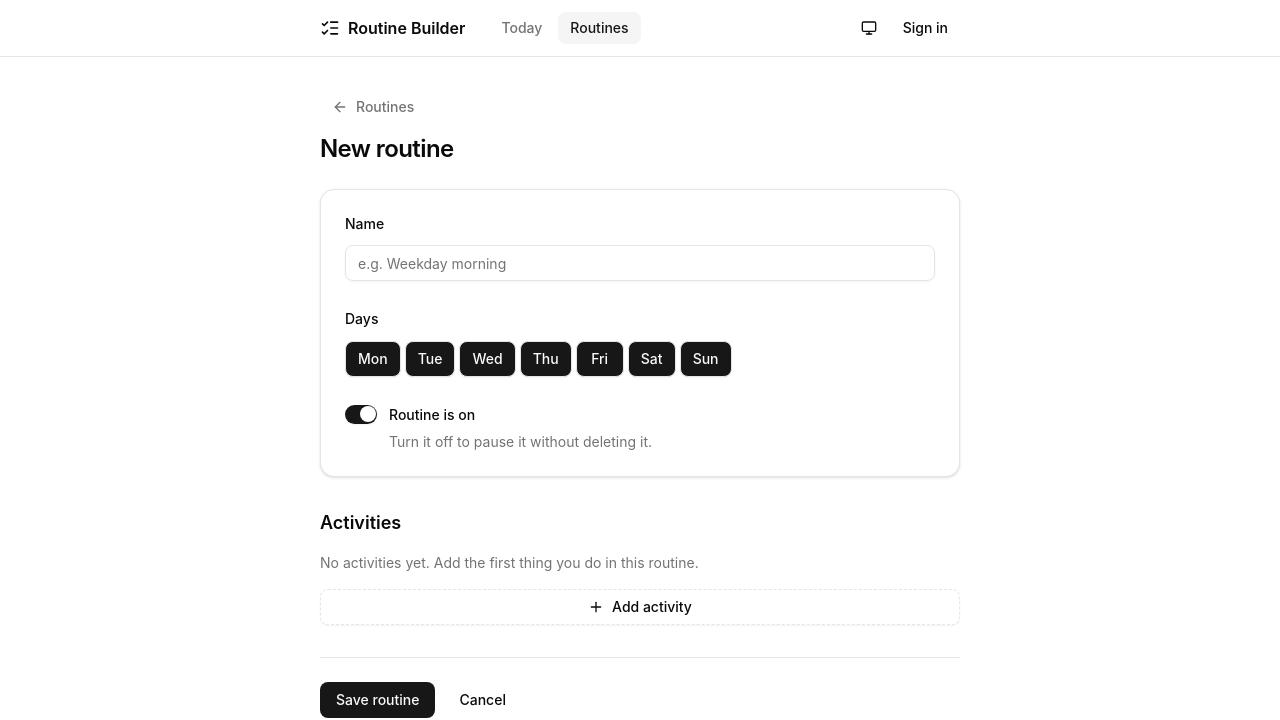
creating a routine › shows errors and saves nothing when the form is invalid
Expected: the heading "Routine Builder" is shown, [348,16,465,40]
Click the button "Add activity" at (640, 606), box [320,588,960,624]
(page scrolled)
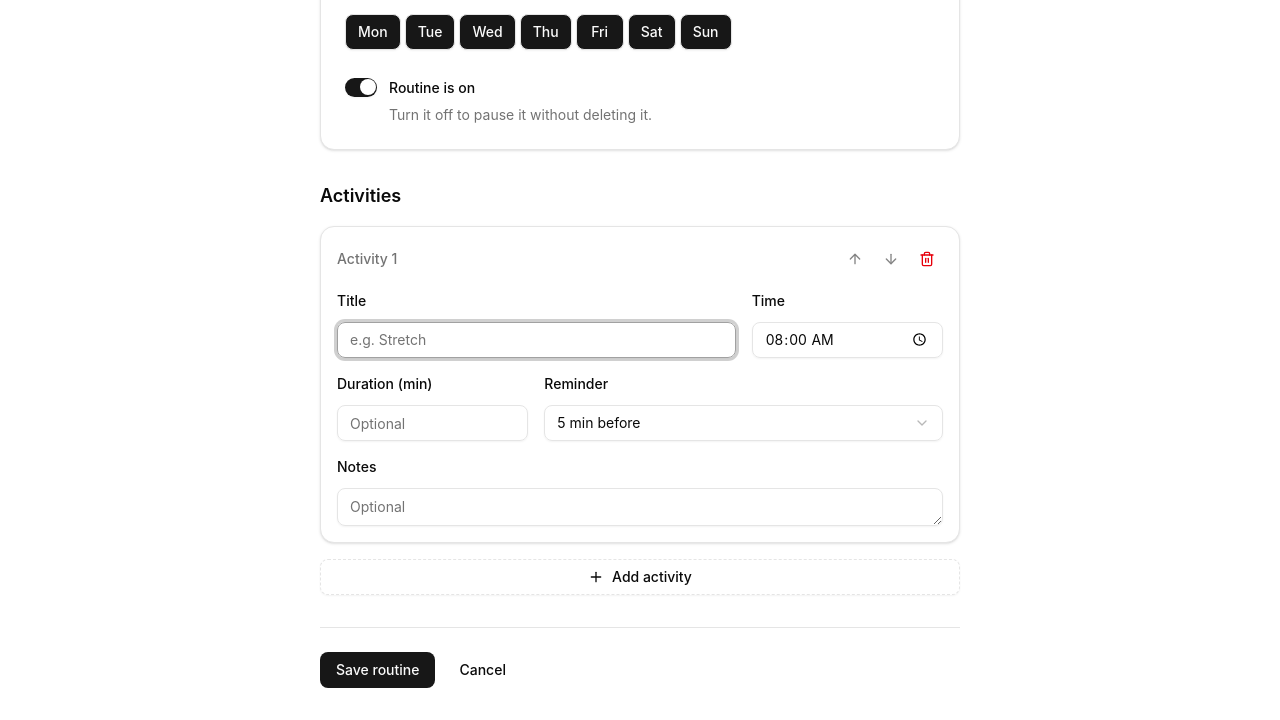
Click the button "Save routine" at (378, 670), box [320,652,436,688]
(page scrolled)
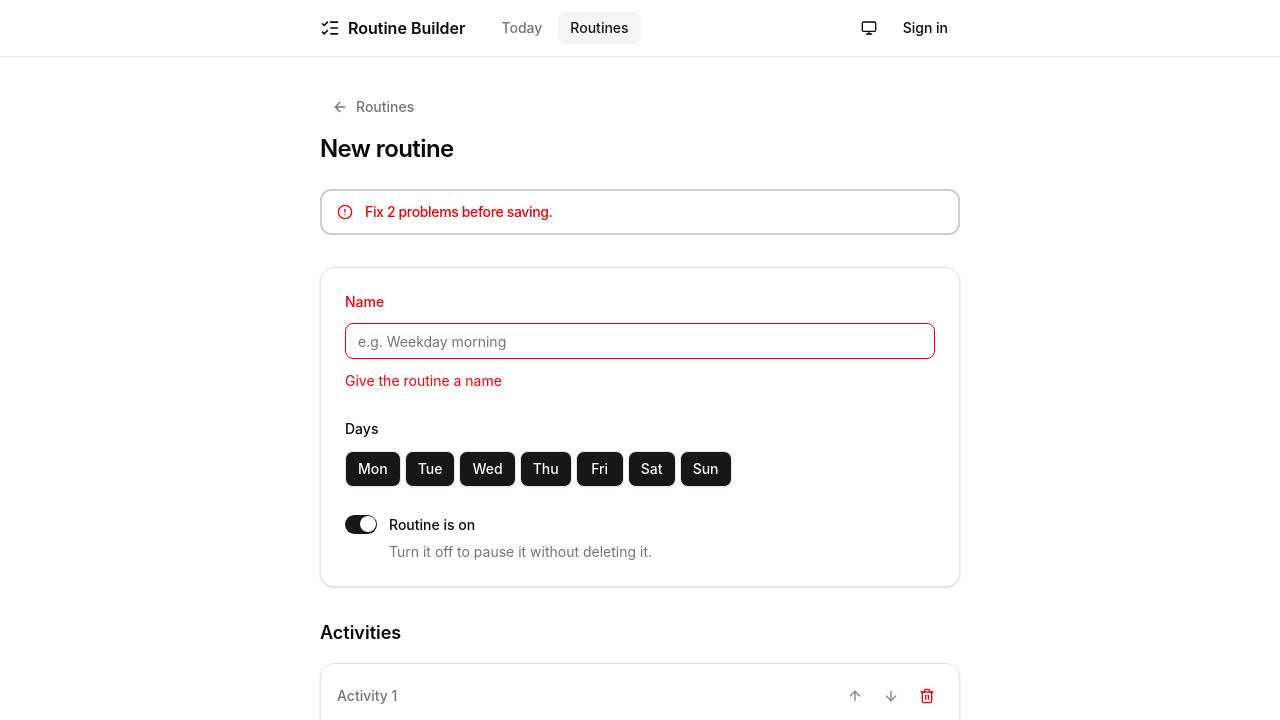
# Errors clear as they are fixed.
Type "Evening" into the field labelled "Name" at (640, 341), box [345,323,935,359]
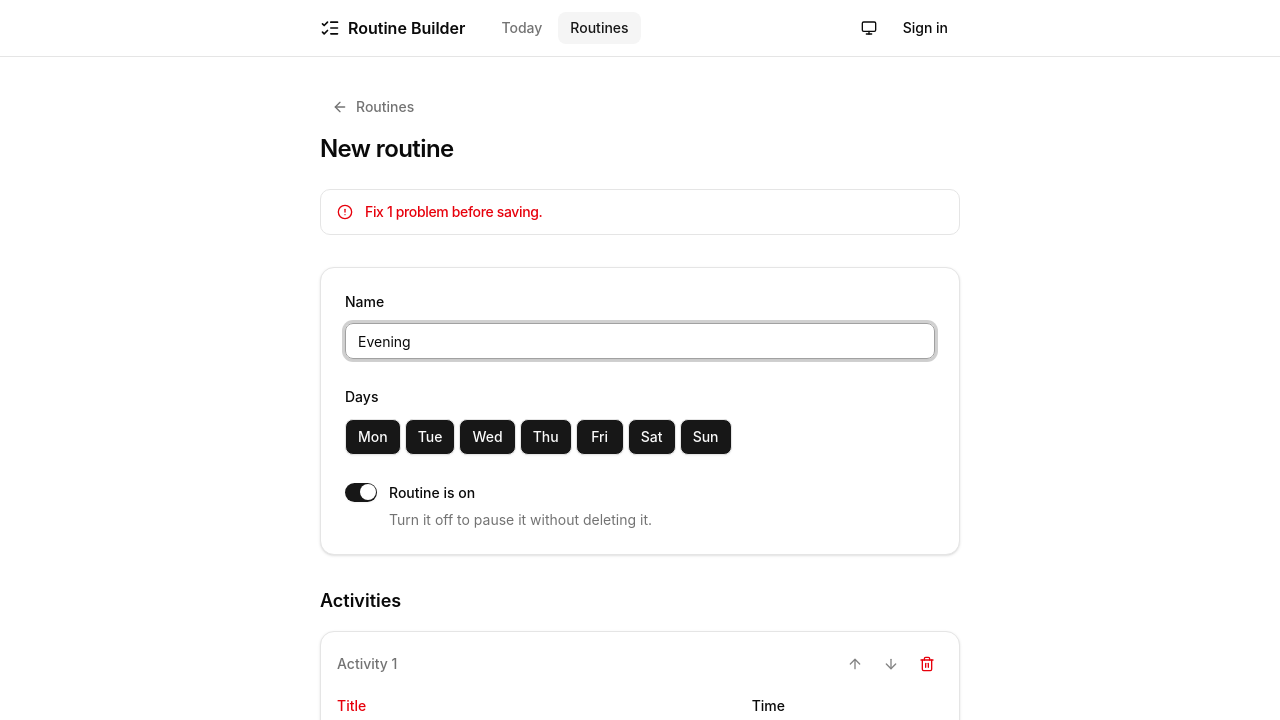
Expected: the text "Fix 1 problem before saving." is shown, [365,203,542,220]
